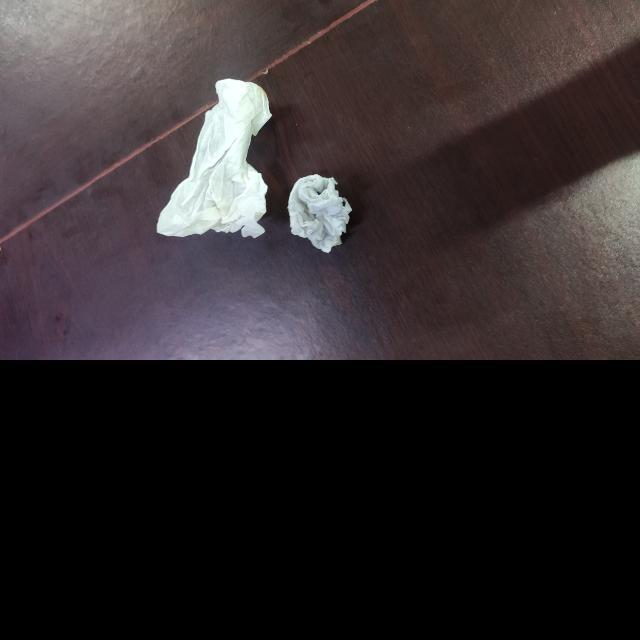kitchen paper: (158, 75, 274, 243), (286, 173, 358, 255)
